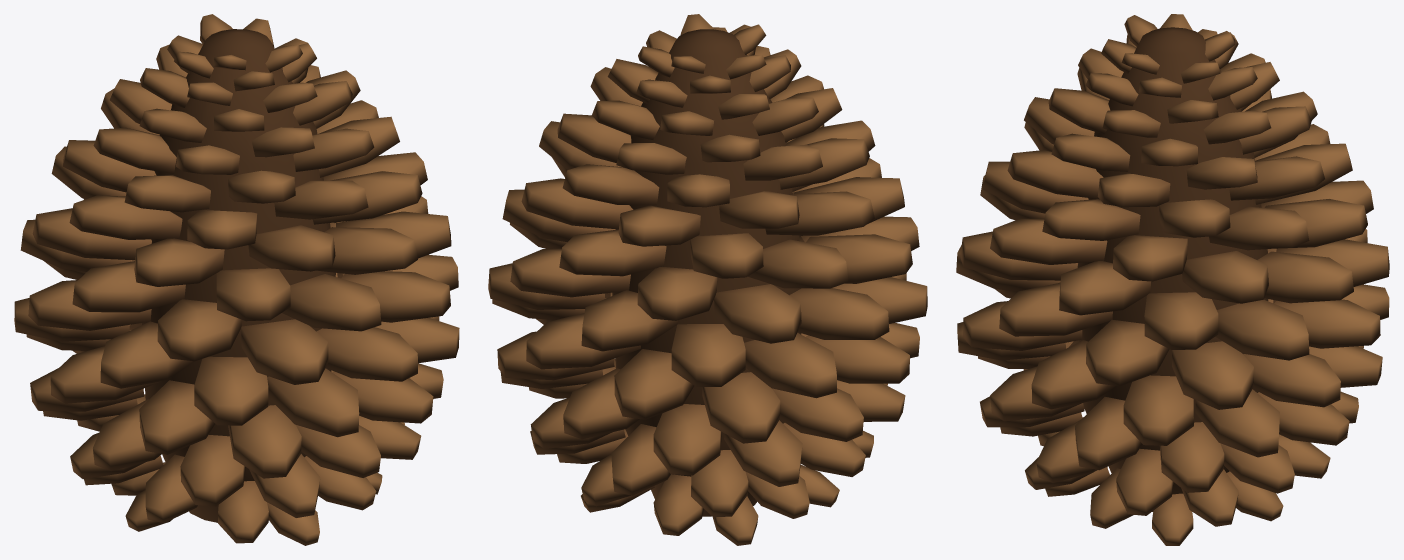
The model's file is Pinecone.fbx.
3 views of the same model, side by side, from view 1: azimuth 30°, elevation 25°; view 2: azimuth 150°, elevation 25°; view 3: azimuth 270°, elevation 25° (orthographic).
Parts seen in each view (by area): view 1: Pinecone; view 2: Pinecone; view 3: Pinecone.
Part boxes in pixels (x1,y1,x2,y2): Pinecone: (14,14,459,545); Pinecone: (488,14,927,545); Pinecone: (956,14,1389,545).
Bounding box in the file's own units: 2.01 × 2.4 × 2.01.
